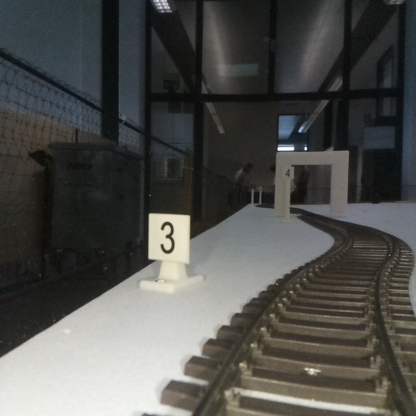white-stop-3: (148, 214, 189, 289)
